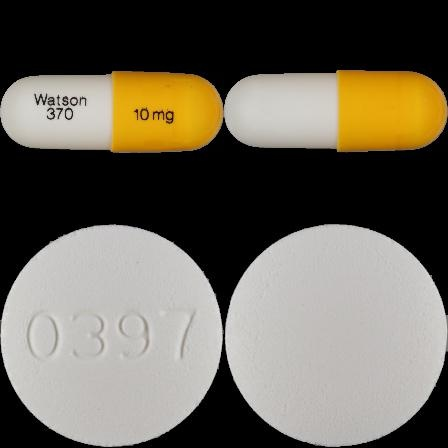0591-0370: (0, 0, 224, 224)
